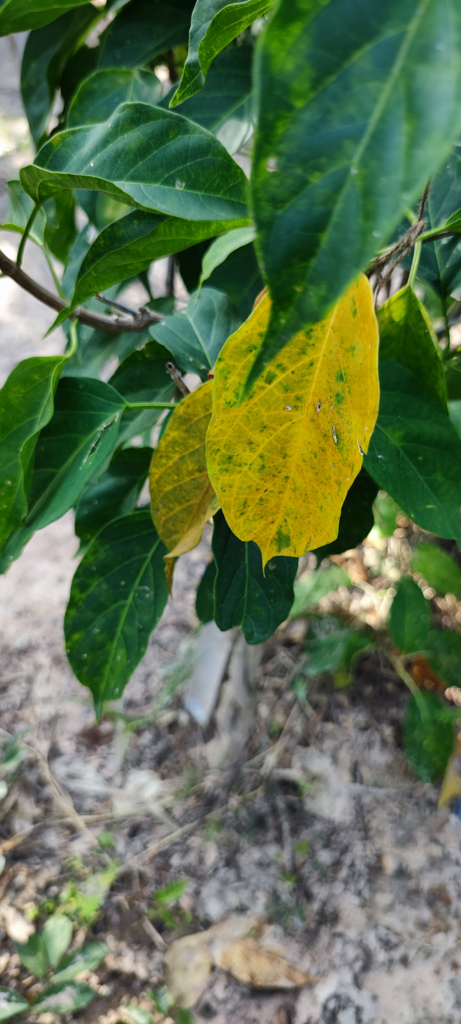Pepper yellow leaf: (210, 265, 394, 577), (147, 376, 220, 567)
